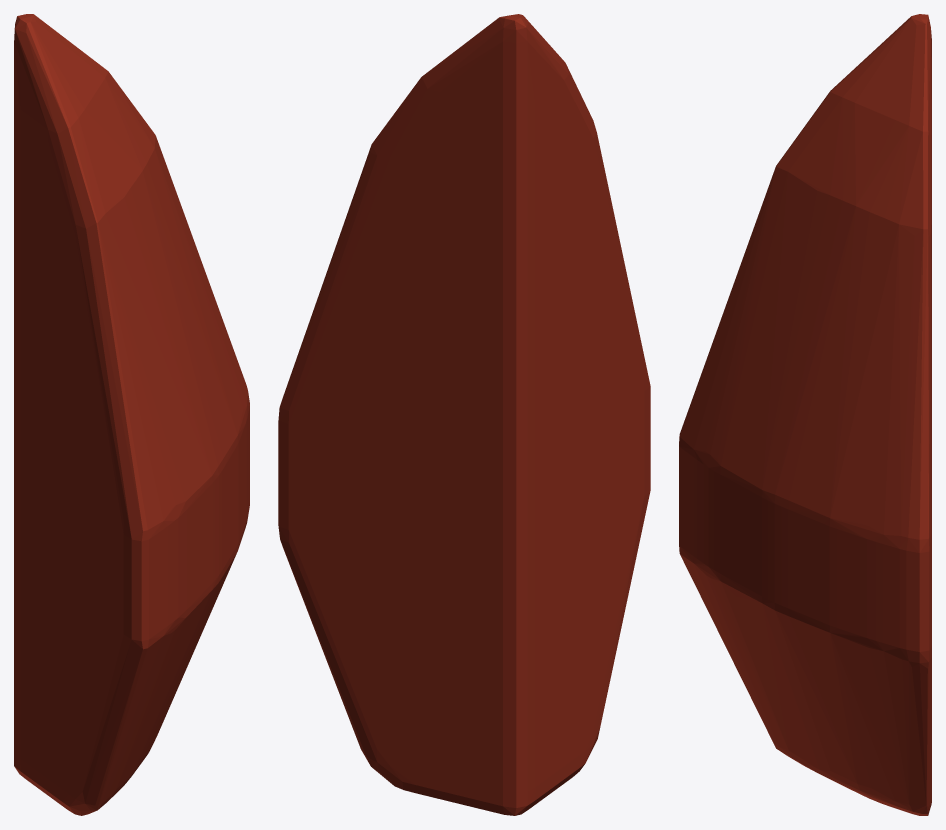
File: right_hip_roll_link_part_15.obj
3 renders of one model, left to right at view 1: azimuth 30°, elevation 25°; view 2: azimuth 150°, elevation 25°; view 3: azimuth 270°, elevation 25°, orthographic. The views are drawn at different scales.
Size of the model in its own units: 0.0242 by 0.0747 by 0.0228.
